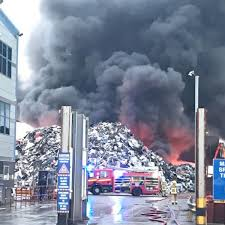smoke: (40, 1, 225, 123)
